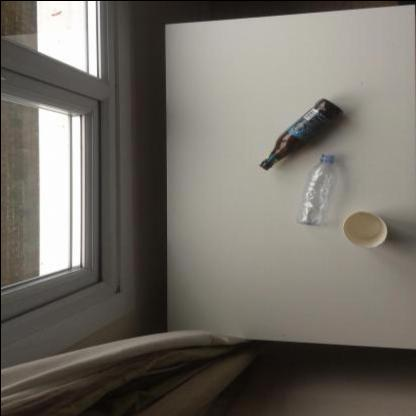Bottle cap: (258, 97, 342, 170), (294, 153, 336, 226)
Cup: (341, 210, 386, 246)
